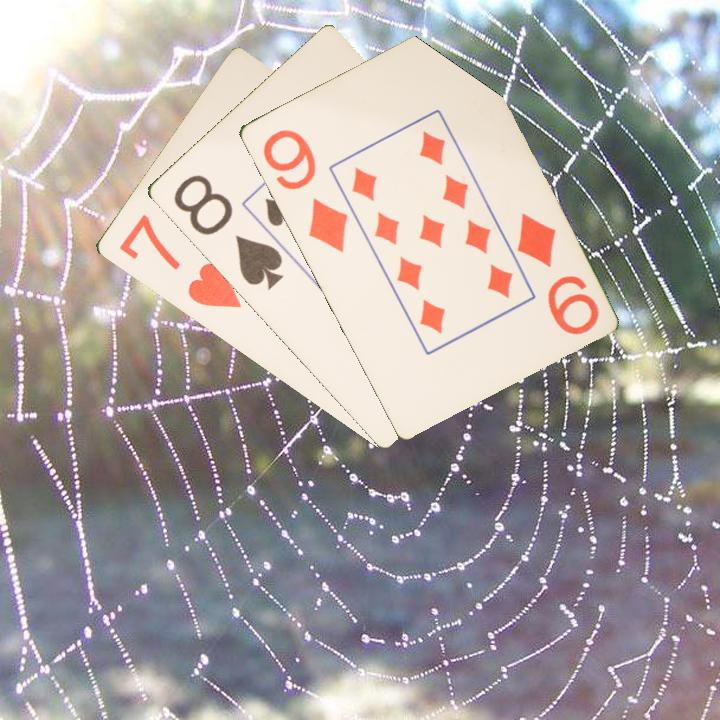7h: (115, 210, 244, 312)
8s: (169, 170, 286, 293)
9d: (258, 125, 351, 256), (512, 209, 602, 338)
